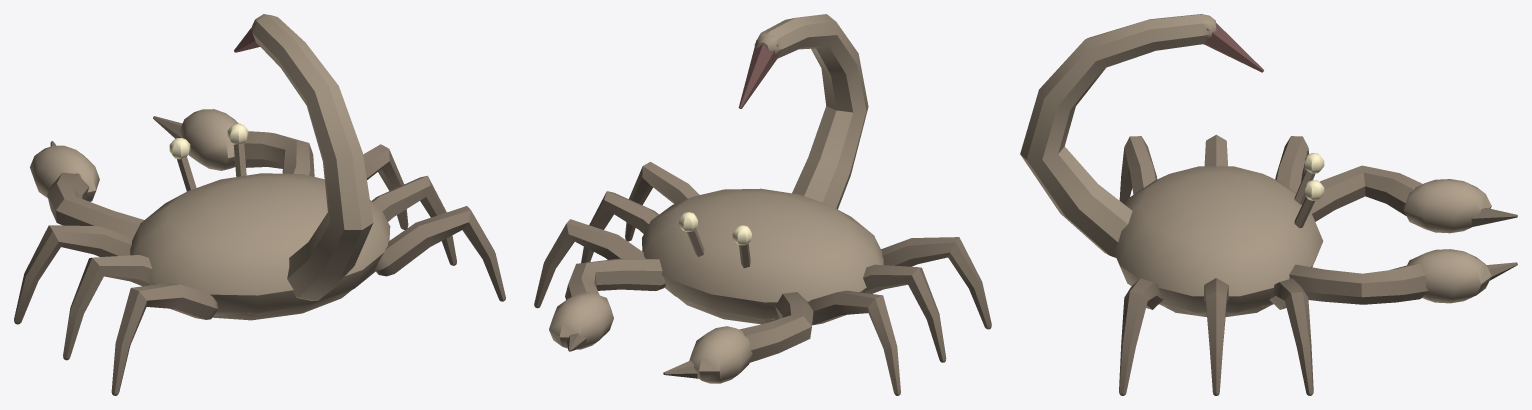
The model's file is dune_scorpion.gltf.
3 renders of one model, left to right at view 1: azimuth 30°, elevation 25°; view 2: azimuth 150°, elevation 25°; view 3: azimuth 270°, elevation 25°, orthographic. The views are drawn at different scales.
Visible parts, largest first — view 1: Body, ArmR, ArmL, SwingB1, SwingA0, SwingA4, SwingB2, SwingA3, SwingB5; view 2: Body, ArmL, ArmR, SwingA0, SwingA4, SwingB5, SwingB2, SwingB1, SwingA3; view 3: Body, ArmR, ArmL, SwingB5, SwingB1, SwingA3, SwingA0, SwingA4, SwingB2.
Boxes of the visible parts, x1=… form: Body: x1=130, y1=14, x2=390, y2=320; ArmR: x1=153, y1=109, x2=314, y2=176; ArmL: x1=30, y1=141, x2=143, y2=237; SwingB1: x1=375, y1=206, x2=505, y2=301; SwingA0: x1=111, y1=282, x2=217, y2=395; SwingA4: x1=14, y1=225, x2=132, y2=324; SwingB2: x1=63, y1=255, x2=152, y2=360; SwingA3: x1=372, y1=175, x2=456, y2=265; SwingB5: x1=363, y1=144, x2=408, y2=229; Body: x1=642, y1=14, x2=883, y2=324; ArmL: x1=663, y1=292, x2=813, y2=383; ArmR: x1=549, y1=258, x2=665, y2=351; SwingA0: x1=881, y1=237, x2=991, y2=329; SwingA4: x1=808, y1=290, x2=900, y2=395; SwingB5: x1=534, y1=219, x2=645, y2=308; SwingB2: x1=863, y1=264, x2=946, y2=362; SwingB1: x1=625, y1=162, x2=699, y2=241; SwingA3: x1=581, y1=191, x2=658, y2=263; Body: x1=1020, y1=14, x2=1324, y2=316; ArmR: x1=1289, y1=249, x2=1517, y2=304; ArmL: x1=1310, y1=165, x2=1517, y2=233; SwingB5: x1=1269, y1=278, x2=1313, y2=395; SwingB1: x1=1119, y1=278, x2=1162, y2=395; SwingA3: x1=1204, y1=278, x2=1228, y2=395; SwingA0: x1=1119, y1=136, x2=1157, y2=204; SwingA4: x1=1275, y1=136, x2=1308, y2=192; SwingB2: x1=1204, y1=134, x2=1227, y2=166.
Bounding box in the file's own units: 1.95 × 1.44 × 2.23.
